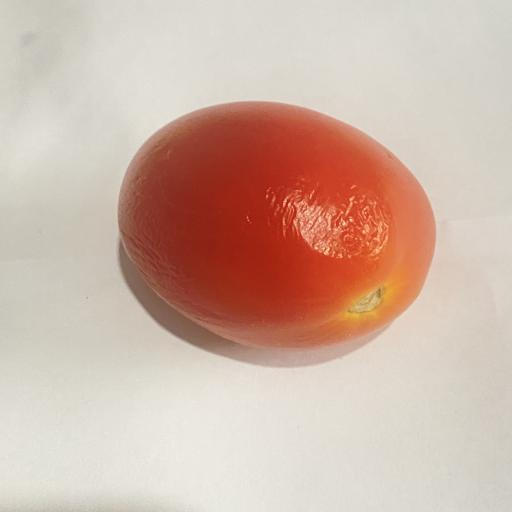spoiled: (118, 102, 435, 348)
